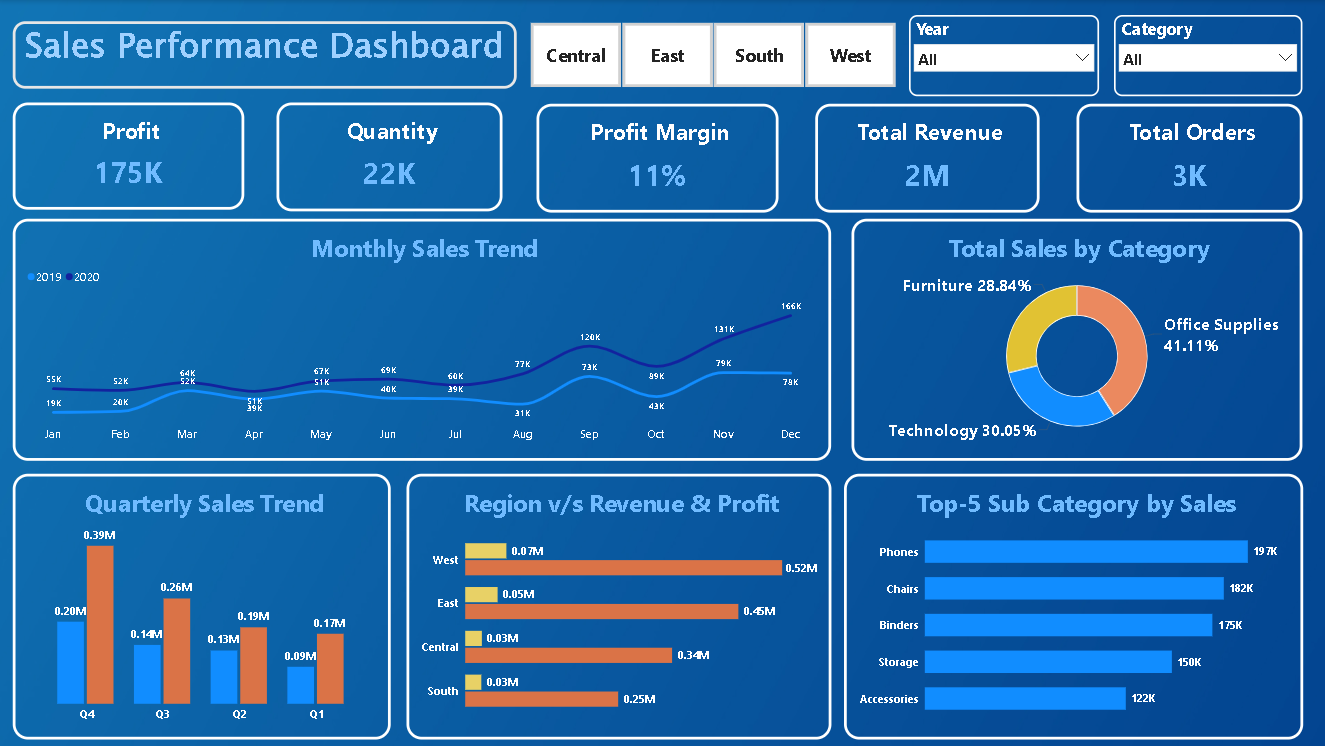

The page's visual inventory and layout, read from the dashboard file:
{"tool":"powerbi","page":{"name":"Dashboard","canvas":[1920,1080],"ordinal":0},"visuals":[{"type":"slicer","fields":{"Values":["SuperStore_Sales_Dataset.Region"]},"box":[750,30,567.5,97.5],"z":0},{"type":"textbox","box":[19.9,30.8,729.3,97.7],"z":1000},{"type":"cardVisual","title":"Profit","fields":{"Data":["DateTable.Total Profit"]},"box":[20,147.5,335,155],"z":2000},{"type":"cardVisual","title":"Quantity","fields":{"Data":["Sum(SuperStore_Sales_Dataset.Quantity)"]},"box":[402.5,147.5,327.5,157.5],"z":3000},{"type":"cardVisual","title":"Profit Margin","fields":{"Data":["DateTable.Profit Margin %"]},"box":[777.5,150,350,157.5],"z":4000},{"type":"cardVisual","title":"Total Revenue","fields":{"Data":["DateTable.Total Revenue"]},"box":[1182.5,150,325,157.5],"z":5000},{"type":"cardVisual","title":"Total Orders","fields":{"Data":["DateTable.Total Orders"]},"box":[1560,150,327.5,157.5],"z":6000},{"type":"lineChart","title":"Monthly Sales Trend","fields":{"Category":["DateTable.Month Name"],"Series":["DateTable.Year"],"Y":["DateTable.Total Revenue"]},"box":[20,317.5,1185,350],"z":7000},{"type":"donutChart","title":"Total Sales by Category","fields":{"Category":["SuperStore_Sales_Dataset.Category"],"Y":["Sum(SuperStore_Sales_Dataset.Sales)"]},"box":[1235,317.5,652.5,350],"z":8000},{"type":"barChart","title":"Top-5 Sub Category by Sales","fields":{"Category":["SuperStore_Sales_Dataset.Sub-Category"],"Y":["Sum(SuperStore_Sales_Dataset.Sales)"]},"box":[1222.5,685,665,385],"z":9000},{"type":"clusteredBarChart","title":"Region v/s Revenue & Profit","fields":{"Category":["SuperStore_Sales_Dataset.Region"],"Y":["Sum(SuperStore_Sales_Dataset.Profit)","Sum(SuperStore_Sales_Dataset.Sales)"]},"box":[590,685,615,385],"z":10000},{"type":"slicer","fields":{"Values":["DateTable.Year"]},"box":[1317.5,22.5,275,117.5],"z":10001},{"type":"slicer","fields":{"Values":["SuperStore_Sales_Dataset.Category"]},"box":[1615,22.5,272.5,117.5],"z":10002},{"type":"clusteredColumnChart","title":"Quarterly Sales Trend","fields":{"Category":["DateTable.Quarter"],"Series":["DateTable.Year"],"Y":["Sum(SuperStore_Sales_Dataset.Sales)"]},"box":[20,685,547.5,385],"z":10003}]}

Visuals, with their boxes in screenshot pixels (x1, y1, x2, y2), scaled from the page's 1920x1080 canvas onto the 1325x746 screenshot:
slicer - SuperStore_Sales_Dataset.Region: bbox=[518, 21, 909, 88]
textbox: bbox=[14, 21, 517, 89]
"Profit" cardVisual: bbox=[14, 102, 245, 209]
"Quantity" cardVisual: bbox=[278, 102, 504, 211]
"Profit Margin" cardVisual: bbox=[537, 104, 778, 212]
"Total Revenue" cardVisual: bbox=[816, 104, 1040, 212]
"Total Orders" cardVisual: bbox=[1077, 104, 1303, 212]
"Monthly Sales Trend" lineChart: bbox=[14, 219, 832, 461]
"Total Sales by Category" donutChart: bbox=[852, 219, 1303, 461]
"Top-5 Sub Category by Sales" barChart: bbox=[844, 473, 1303, 739]
"Region v/s Revenue & Profit" clusteredBarChart: bbox=[407, 473, 832, 739]
slicer - DateTable.Year: bbox=[909, 16, 1099, 97]
slicer - SuperStore_Sales_Dataset.Category: bbox=[1115, 16, 1303, 97]
"Quarterly Sales Trend" clusteredColumnChart: bbox=[14, 473, 392, 739]
